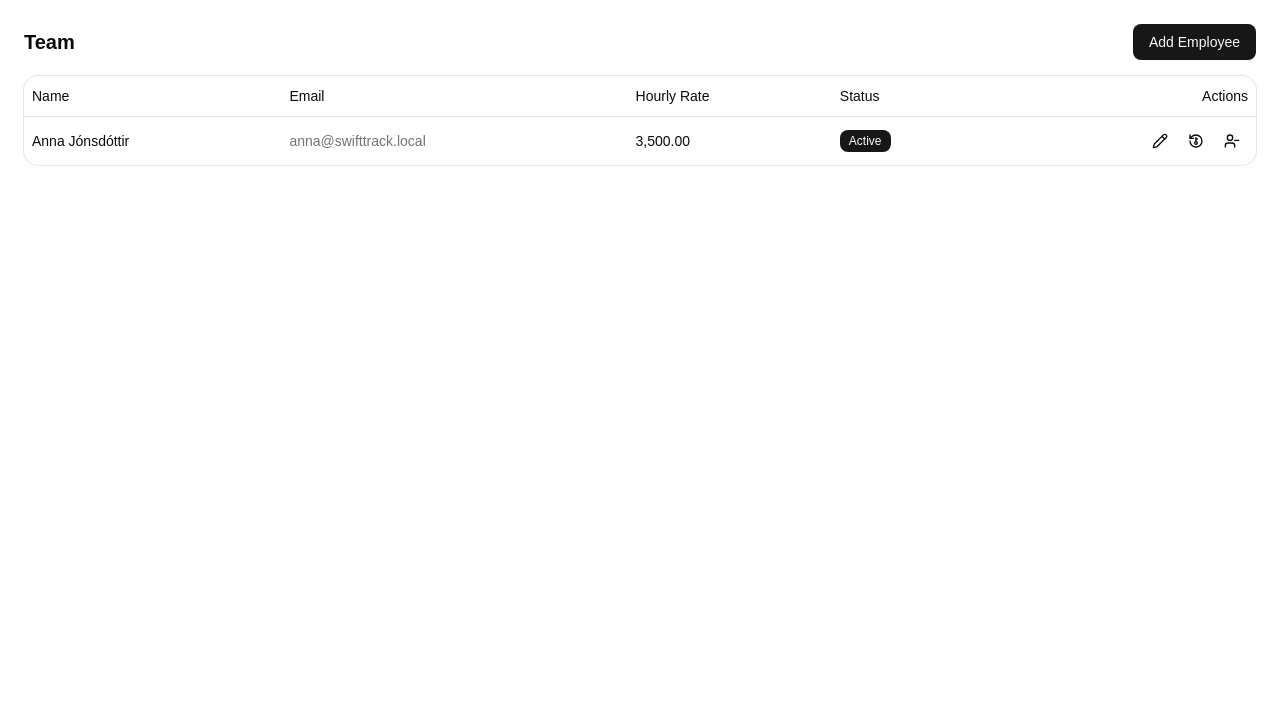
Test: TeamPage — editing an employee › opens no code dialog — that belongs to a create
Click the button named "Edit employee" at {"x": 1160, "y": 140}, box x1=1144 y1=124 x2=1176 y2=156
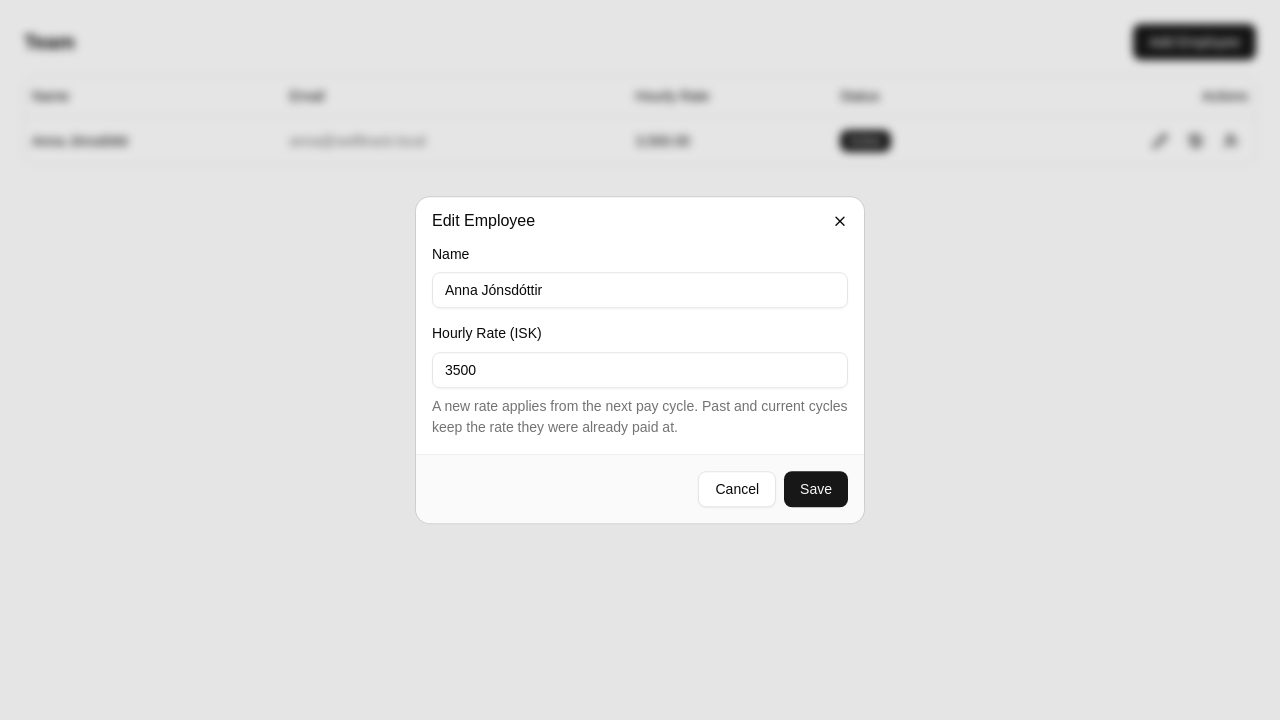
Click the button "Save" at {"x": 816, "y": 489}, box x1=784 y1=471 x2=848 y2=507
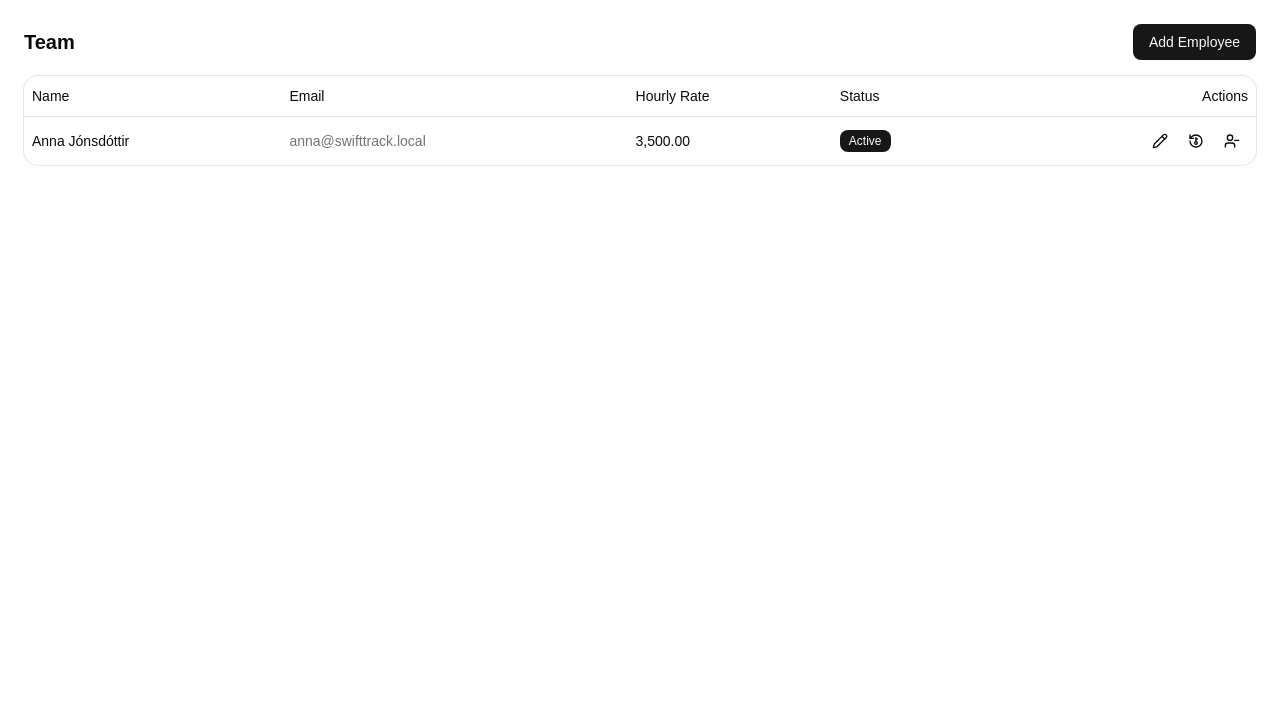
Now the dialog is gone
